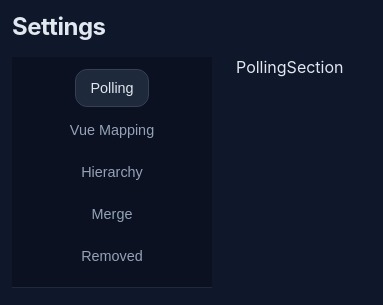
Test: SettingsPage tab navigation › clicking Hierarchy tab renders only the hierarchy section
What coordinates should you click on to do the following:
click the tab "Hierarchy"
I would click on:
 (112, 172)
Its box is [66, 153, 158, 191].
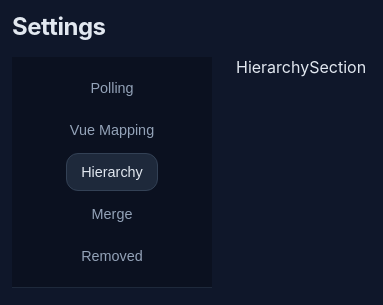
Check: the text "HierarchySection" is shown, box [236, 57, 366, 77]
Check: the text with test id "section-polling" is gone
